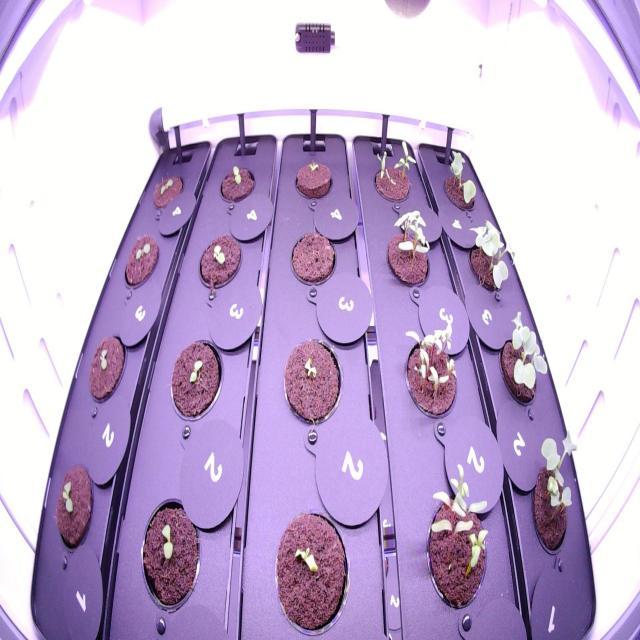germination: (416, 454, 502, 623), (266, 503, 354, 633), (131, 489, 208, 622), (395, 308, 466, 434), (528, 425, 582, 564), (490, 303, 551, 417), (278, 332, 346, 429), (162, 332, 228, 431), (381, 202, 437, 298), (464, 212, 521, 304), (52, 460, 98, 560), (364, 132, 419, 211), (83, 325, 130, 410), (434, 145, 486, 219), (192, 228, 246, 297), (119, 228, 162, 294), (288, 153, 338, 208), (213, 156, 259, 212), (147, 167, 189, 216)
pod: (286, 226, 341, 295)
